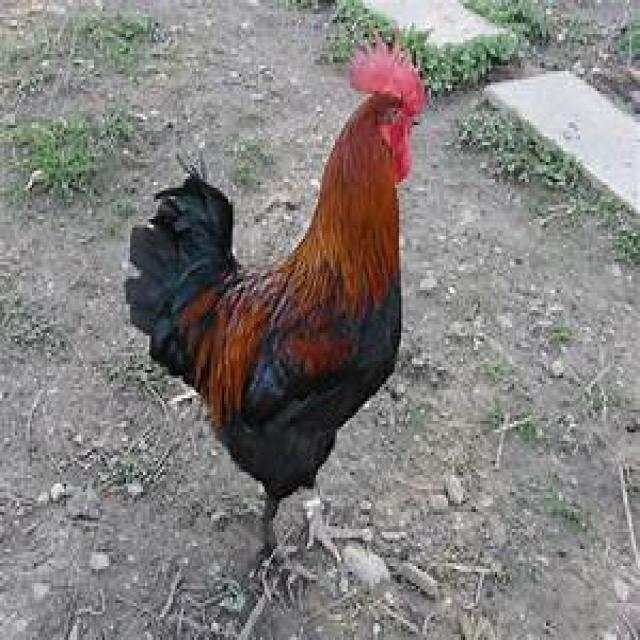animal: (122, 31, 428, 566)
